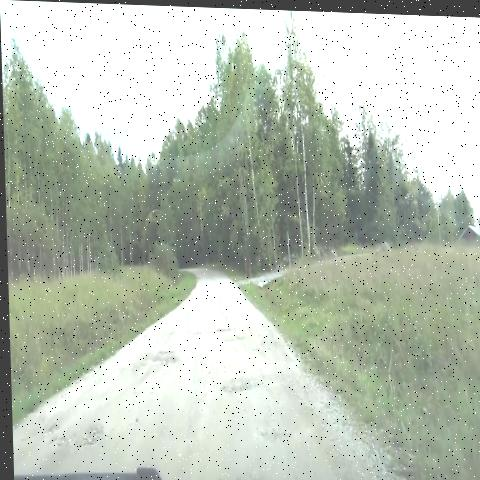pothole: (36, 417, 108, 455), (137, 337, 183, 380), (214, 369, 266, 406), (215, 326, 263, 361), (249, 416, 297, 450), (177, 313, 242, 336)
